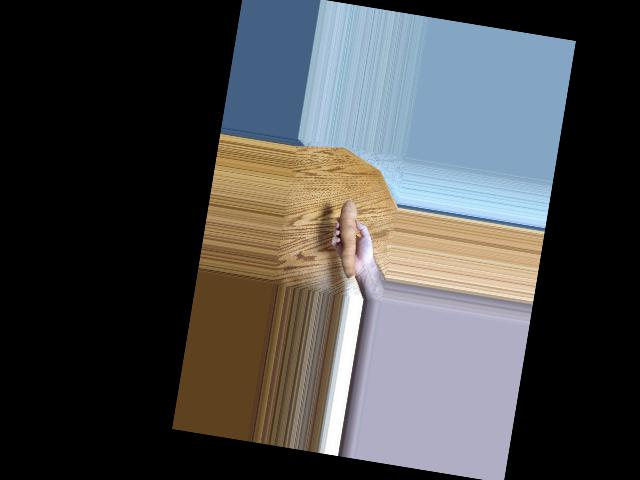sweet_potato: (325, 198, 367, 275)
